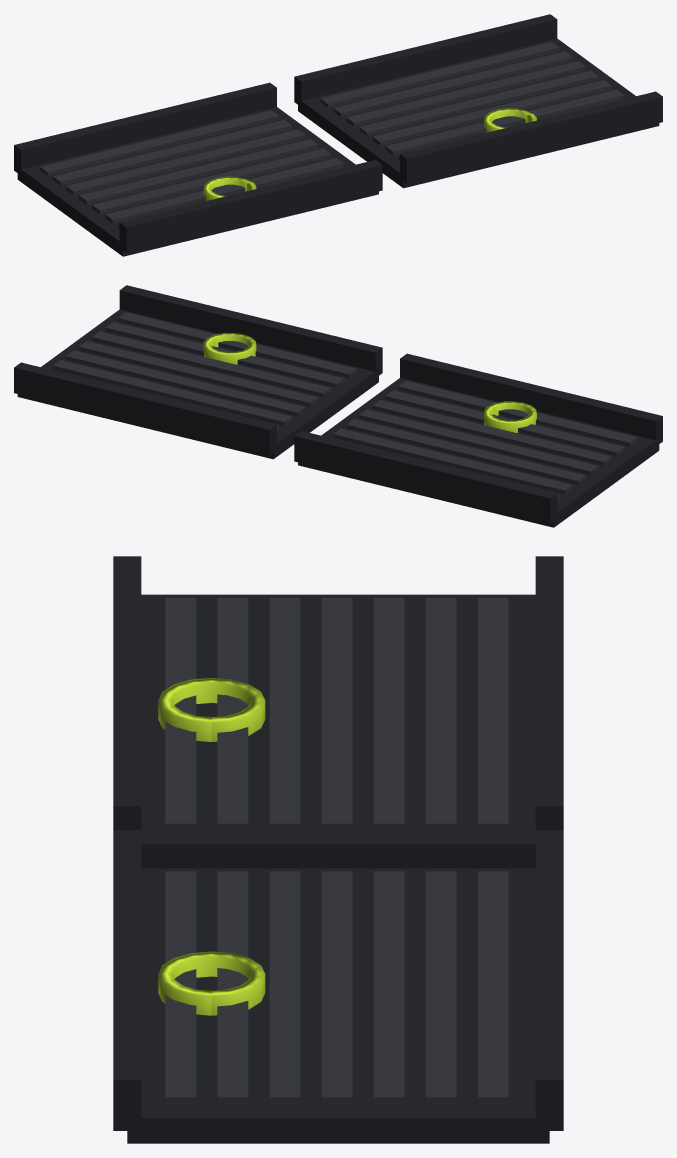
The picture shows the model from 3 angles, top to bottom: view 1: azimuth 30°, elevation 25°; view 2: azimuth 150°, elevation 25°; view 3: azimuth 270°, elevation 25°; orthographic projection. The views are drawn at different scales.
Parts seen in each view (by area): view 1: Alfombrillas de goma (juego); view 2: Alfombrillas de goma (juego); view 3: Alfombrillas de goma (juego).
Part boxes in pixels (<box>): Alfombrillas de goma (juego): <box>14,14,662,256</box>; Alfombrillas de goma (juego): <box>14,285,662,527</box>; Alfombrillas de goma (juego): <box>113,556,563,1143</box>.
Size of the model in its own units: 1 by 0.0568 by 0.3636.
